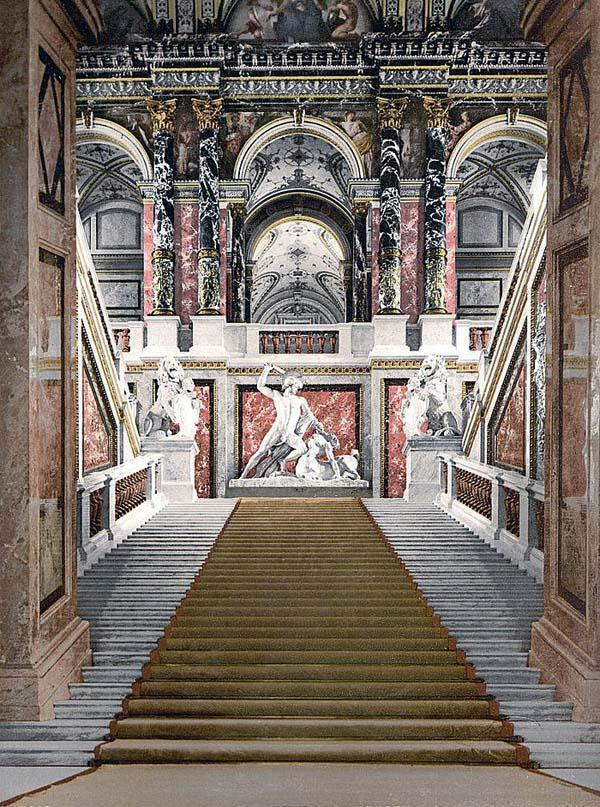Escaleras: (19, 498, 593, 766)
